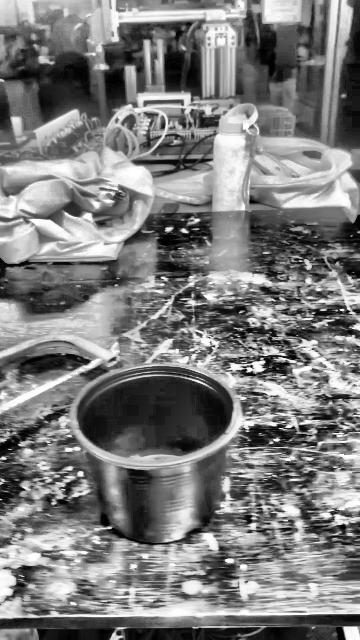pot: (75, 365, 236, 542)
